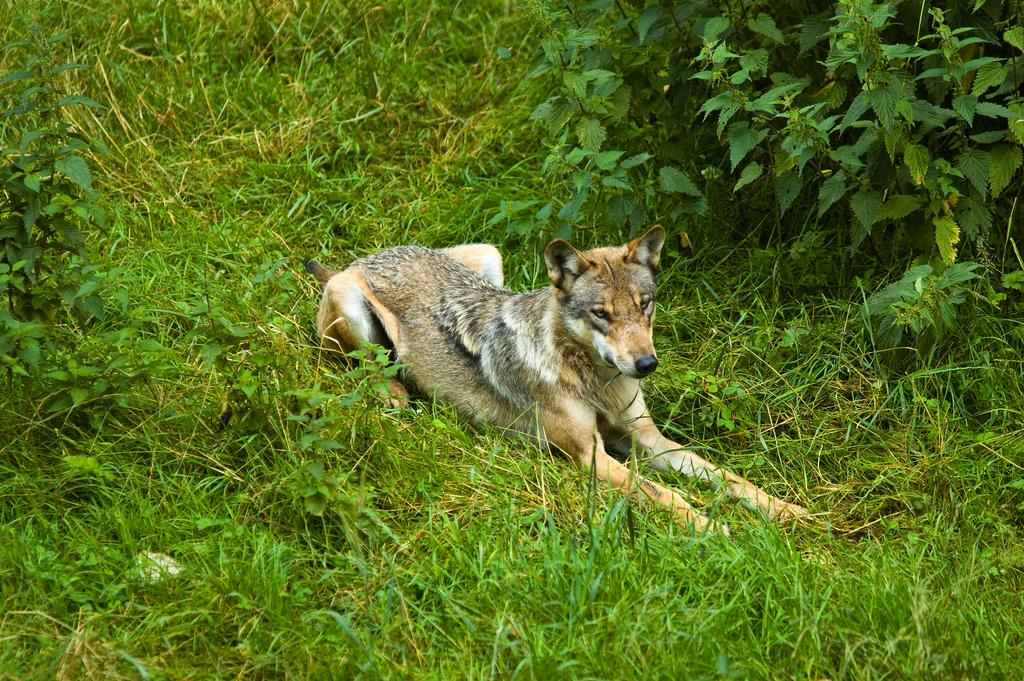Wolf: (299, 223, 806, 546)
